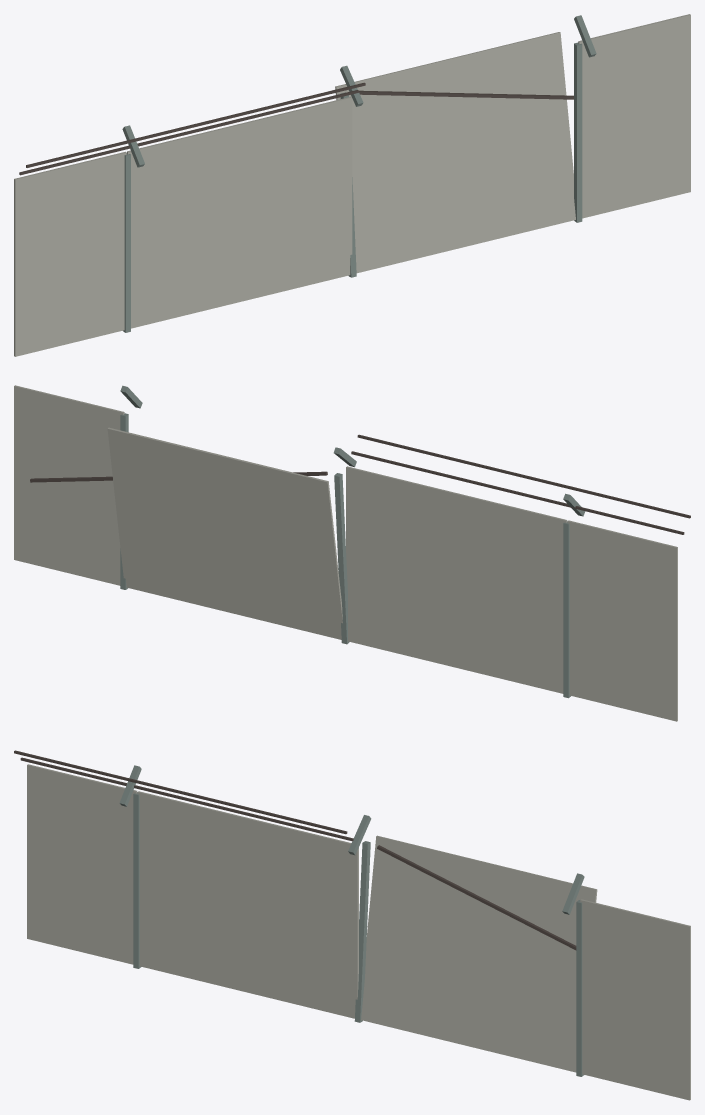
File: SM_VallaBetera_Malla_e1_SanaGolpeada_LOD0.fbx
The picture shows the model from 3 angles, top to bottom: view 1: azimuth 30°, elevation 25°; view 2: azimuth 150°, elevation 25°; view 3: azimuth 330°, elevation 25°; orthographic projection.
Visible parts, largest first — view 1: SM_valla_estados_v1_LOD0; view 2: SM_valla_estados_v1_LOD0; view 3: SM_valla_estados_v1_LOD0.
Boxes of the visible parts, box(x1,y1,x2,y2) form: SM_valla_estados_v1_LOD0: box(14, 14, 690, 356); SM_valla_estados_v1_LOD0: box(14, 385, 690, 721); SM_valla_estados_v1_LOD0: box(14, 750, 690, 1100).
Size of the model in its own units: 9.99 by 2.91 by 0.8651.
